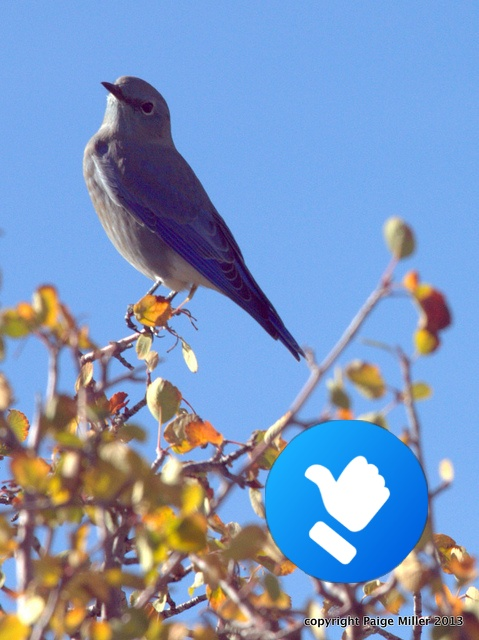like: (265, 420, 428, 583)
